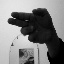h: (7, 5, 52, 43)
